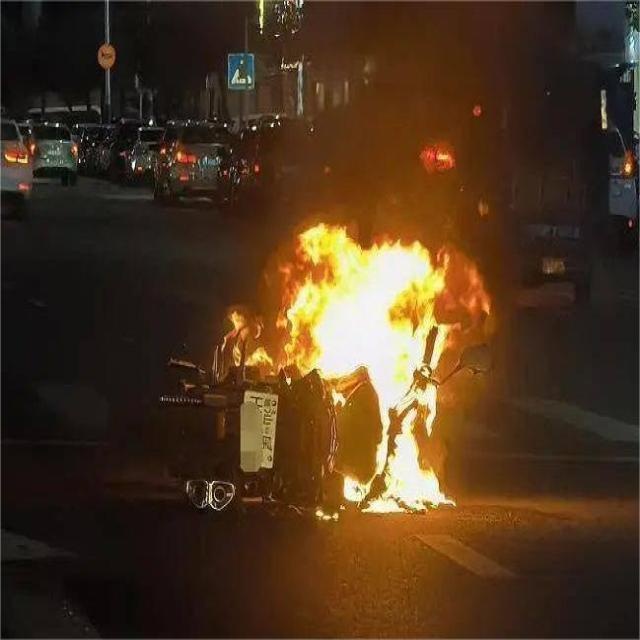fire: (286, 221, 453, 513)
